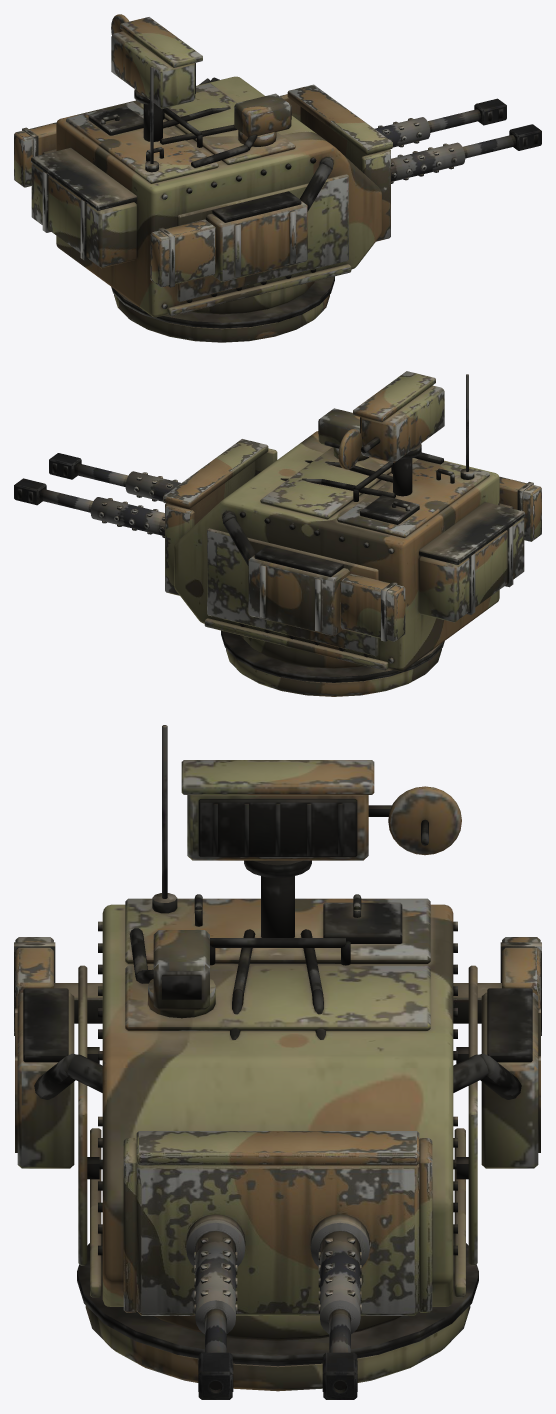
File: turret_grach_evo_steppe.glb
3 renders of one model, top to bottom at view 1: azimuth 30°, elevation 25°; view 2: azimuth 150°, elevation 25°; view 3: azimuth 270°, elevation 25°, orthographic. The views are drawn at different scales.
Visible parts, largest first — view 1: turret_light_evo, guns, pods; view 2: turret_light_evo, guns, pods; view 3: turret_light_evo, guns, pods.
Part boxes in pixels (left/top/right/bottom): turret_light_evo: left=31, top=14, right=381, bottom=342; guns: left=280, top=84, right=541, bottom=241; pods: left=14, top=122, right=215, bottom=287; turret_light_evo: left=174, top=371, right=524, bottom=696; guns: left=14, top=439, right=277, bottom=595; pods: left=340, top=476, right=541, bottom=641; turret_light_evo: left=15, top=725, right=540, bottom=1391; guns: left=123, top=1131, right=432, bottom=1399; pods: left=14, top=937, right=541, bottom=1035.
Bounding box in the file's own units: 1.86 × 1.09 × 1.05.
Materials: 3 (3 with a texture image).
